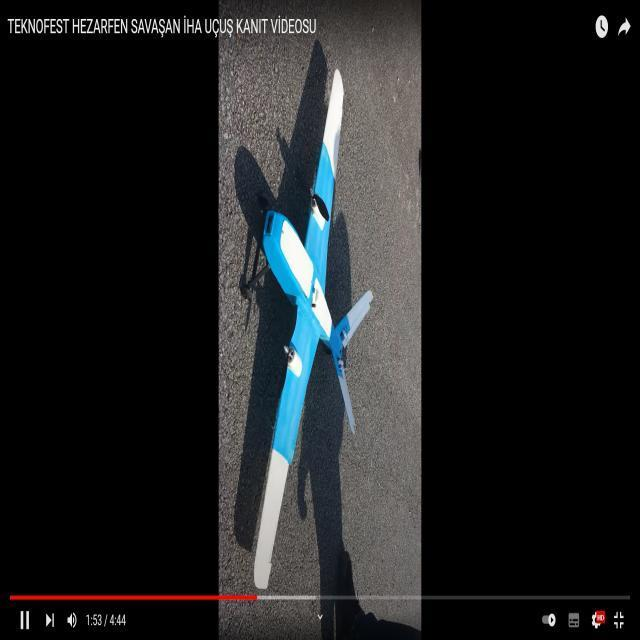UAV: (237, 46, 376, 546)
